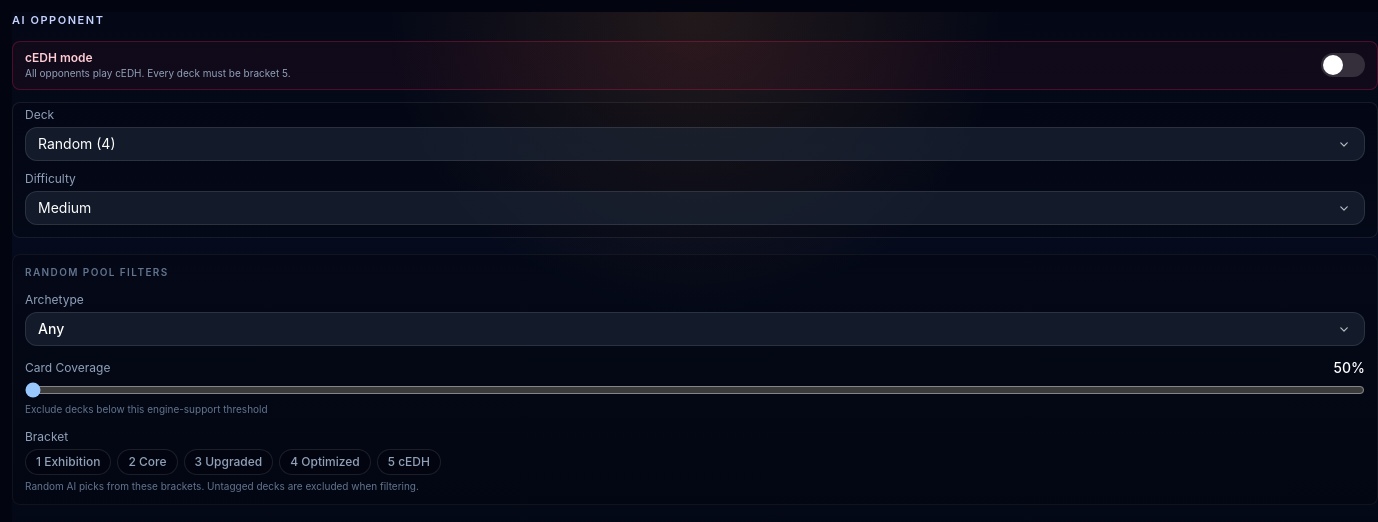
Test: AiOpponentConfig — cEDH badge + disabled difficulty › badges the seat and disables the difficulty dropdown when cEDH mode is on
The image size is (1378, 522).
Expected: the button with aria-label "Difficulty" is enabled, [25,190,1365,224]
Step 1. Click the switch named "cEDH mode" → [1343, 65], box [1321,53,1365,77]
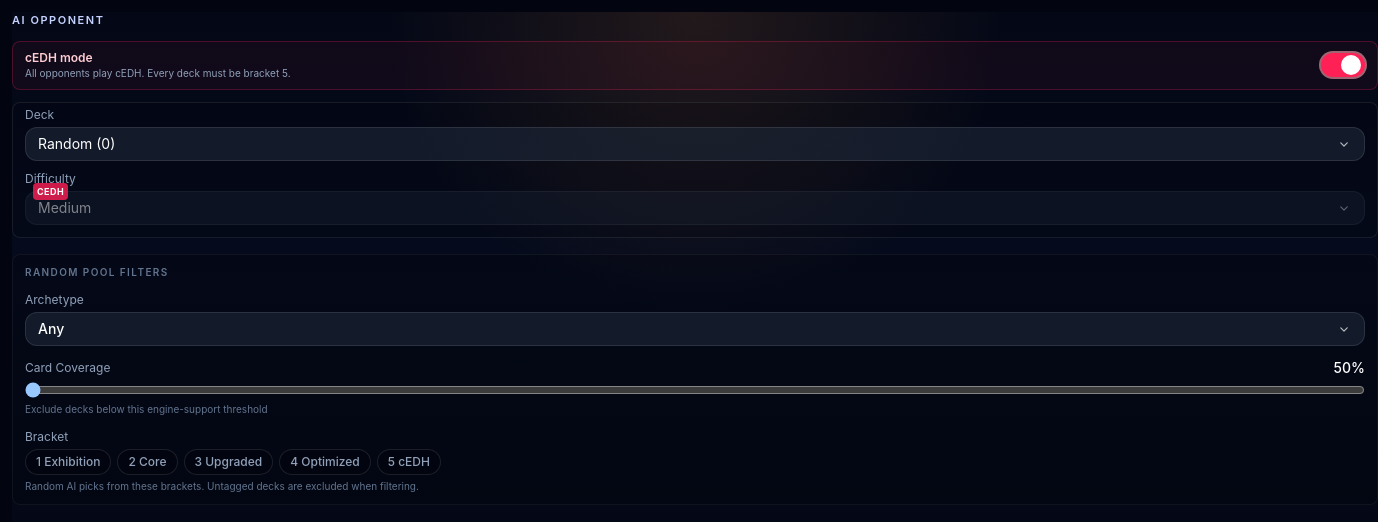
Now the text labelled "cEDH" is shown, box [33,182,68,200]
Now the button with aria-label "Difficulty" is disabled, box [25,190,1365,224]
